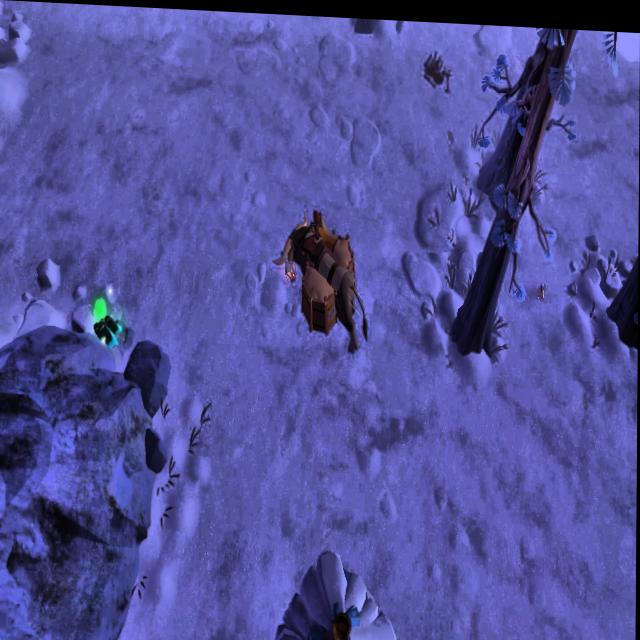ore_t4: (94, 310, 121, 350)
